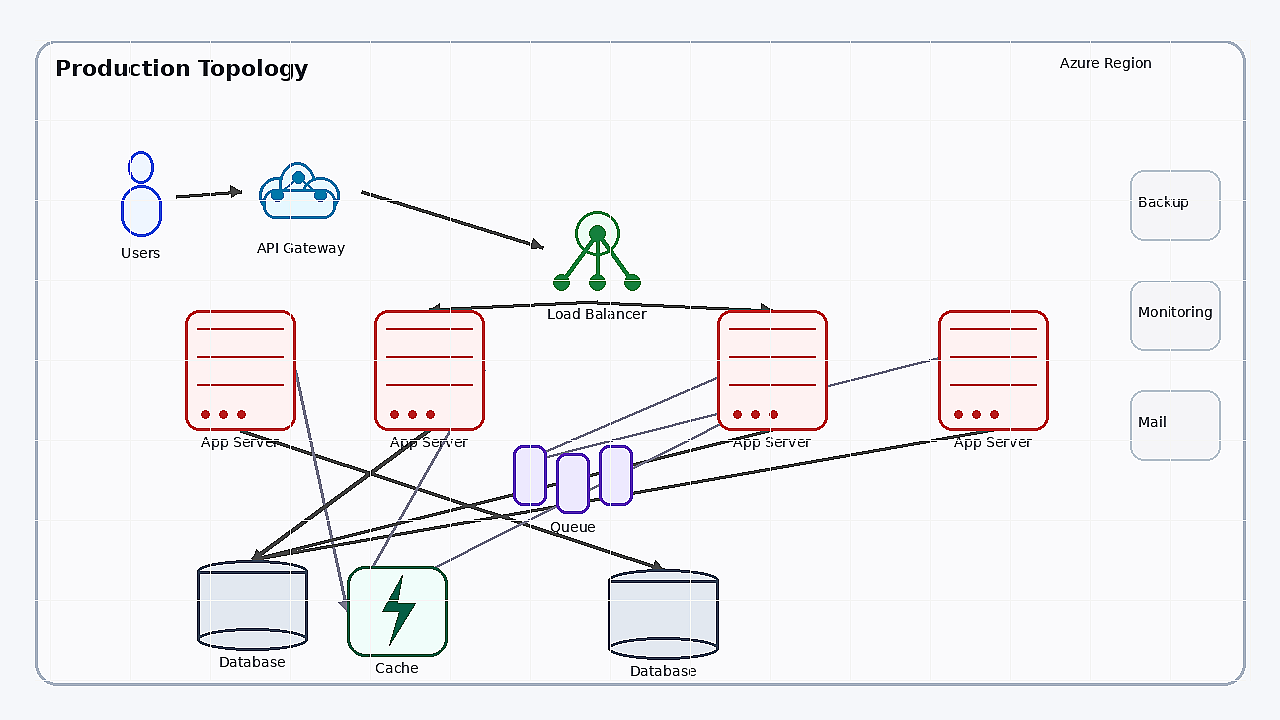API Gateway: (241, 146, 361, 236)
Application Server: (185, 310, 295, 430), (938, 310, 1048, 430), (374, 310, 484, 430), (717, 310, 827, 430)
Cache: (347, 566, 447, 656)
Database: (197, 560, 307, 650), (608, 569, 718, 659)
Load Balancer: (542, 192, 652, 302)
Message Queue: (513, 445, 633, 515)
User: (106, 151, 176, 241)
